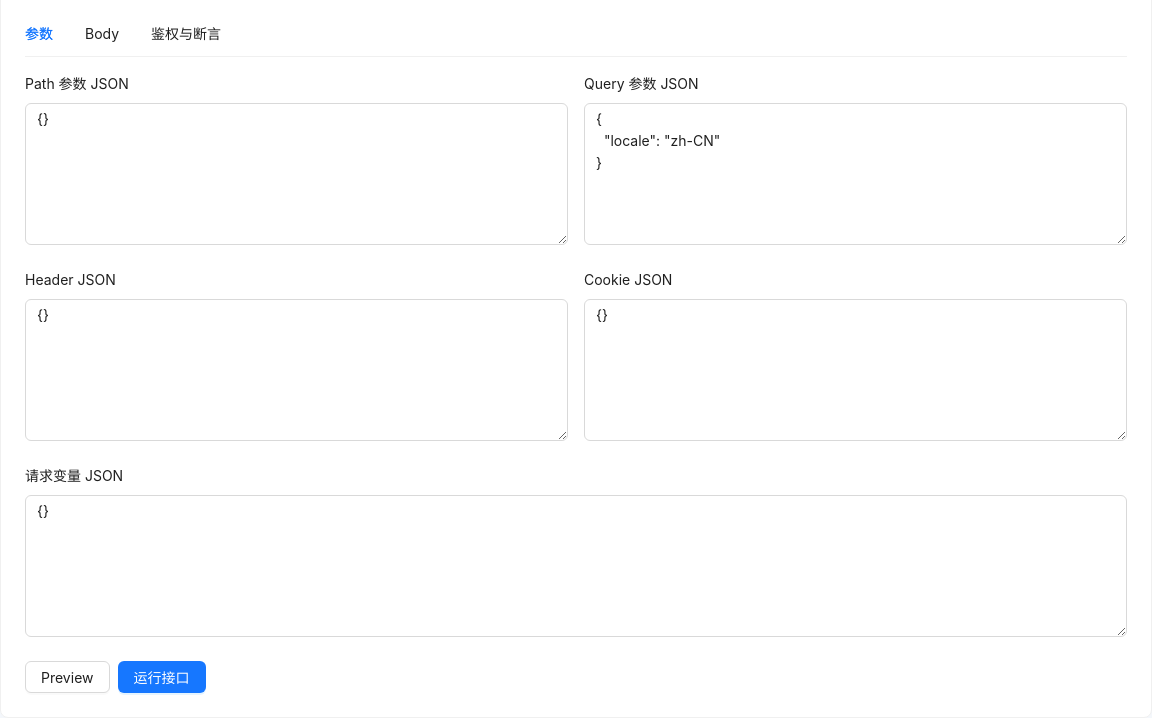
Test: RequestComposer › loads the selected interface and sends the shared preview payload with its asset id
The image size is (1152, 718).
(page scrolled)
Check: the text box showing "locale" is shown, box [584, 103, 1127, 245]
Click the button "Preview". click: (67, 677)
box: [25, 661, 110, 693]
(page scrolled)
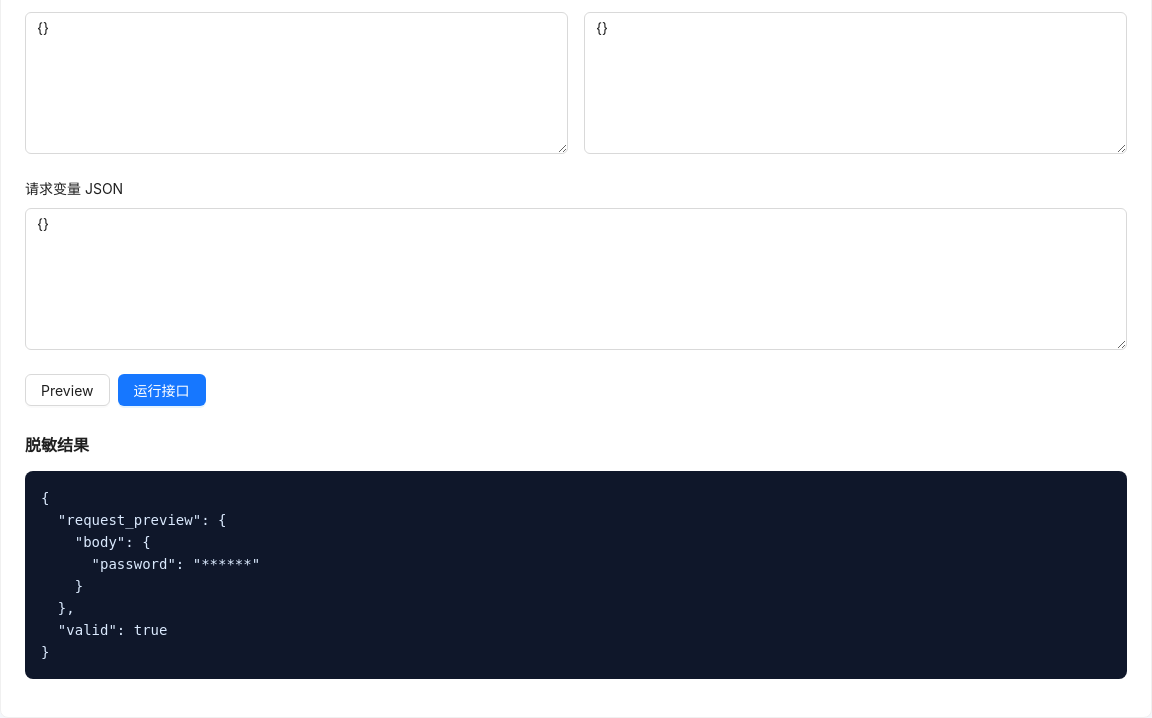
Check: the text "******" is shown, box [41, 490, 260, 660]
